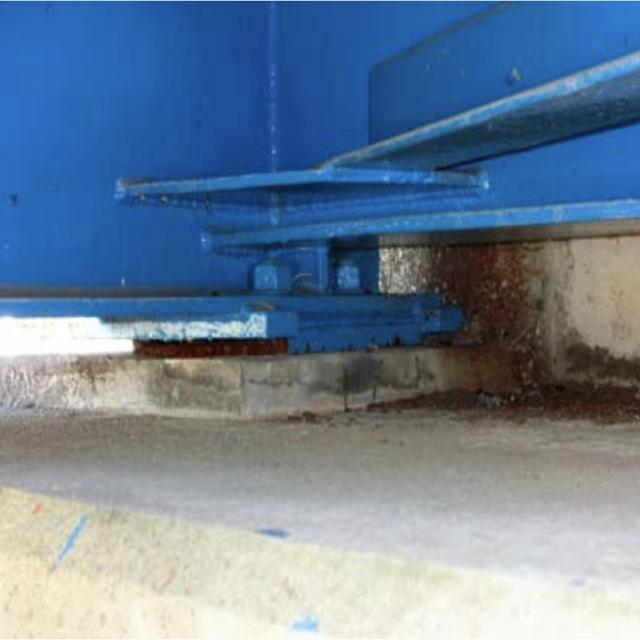corrosion: (418, 247, 640, 434), (109, 320, 307, 394)
